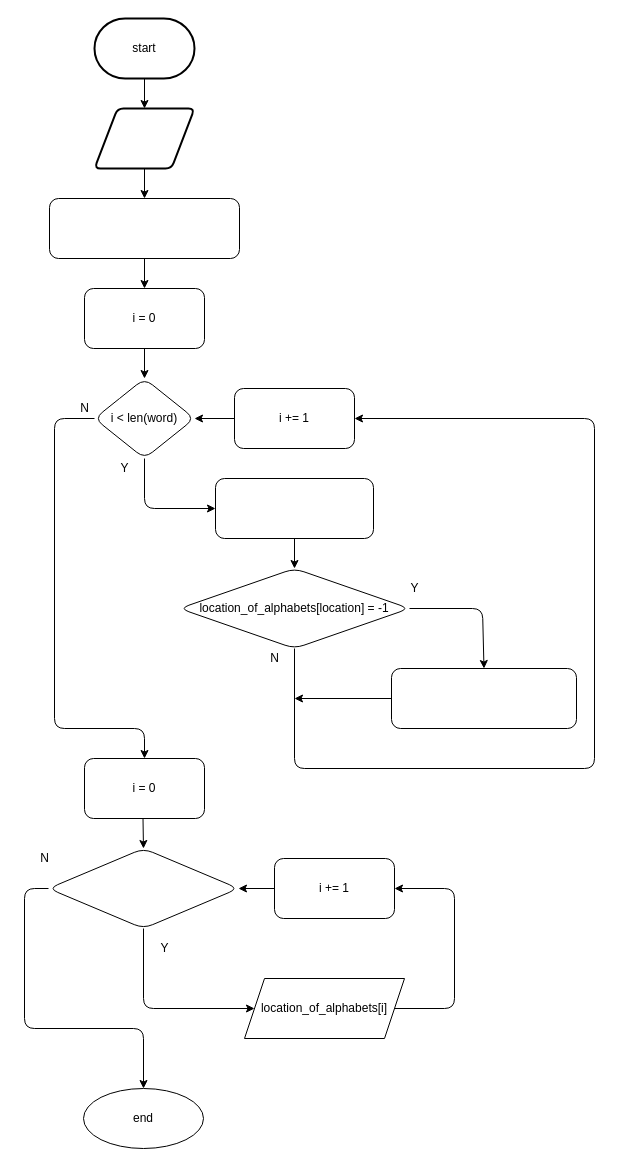
The diagram is 620 pixels wide and 1166 high, and some of its shapes have lost their labels. The centre of each missing label's shape, as x and y in pixels:
"i < len(location_of_alphabets)" goes at [143,888].
"location = ord(word[i]) - 97" goes at [294,508].
"location_of_alphabets = [-1] * 26" goes at [144,228].
"location_of_alphabets[location] = i" goes at [483,698].
"word" goes at [144,138].
